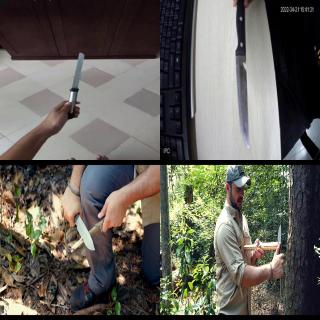knife: (225, 8, 261, 149), (62, 206, 96, 253), (63, 52, 95, 96), (274, 222, 284, 274)
